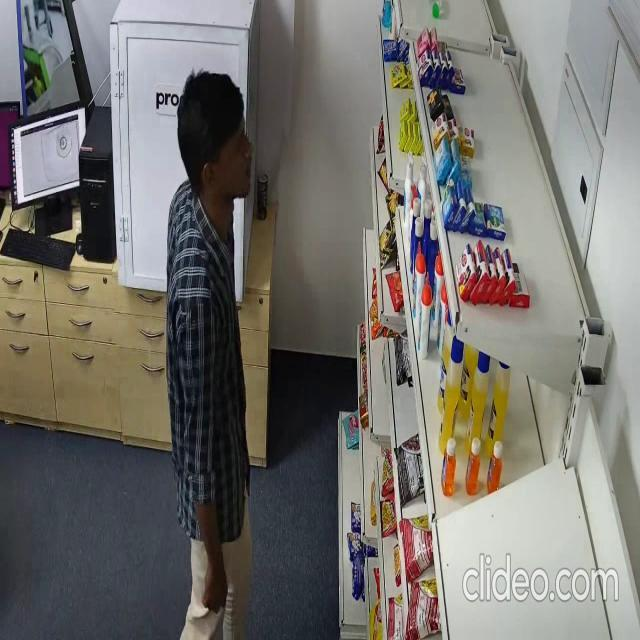normal: (162, 68, 258, 640)
